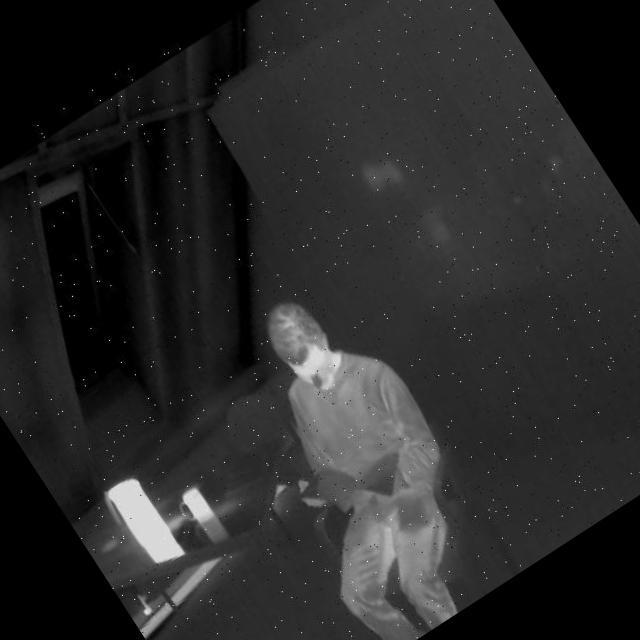person: (180, 267, 525, 640)
